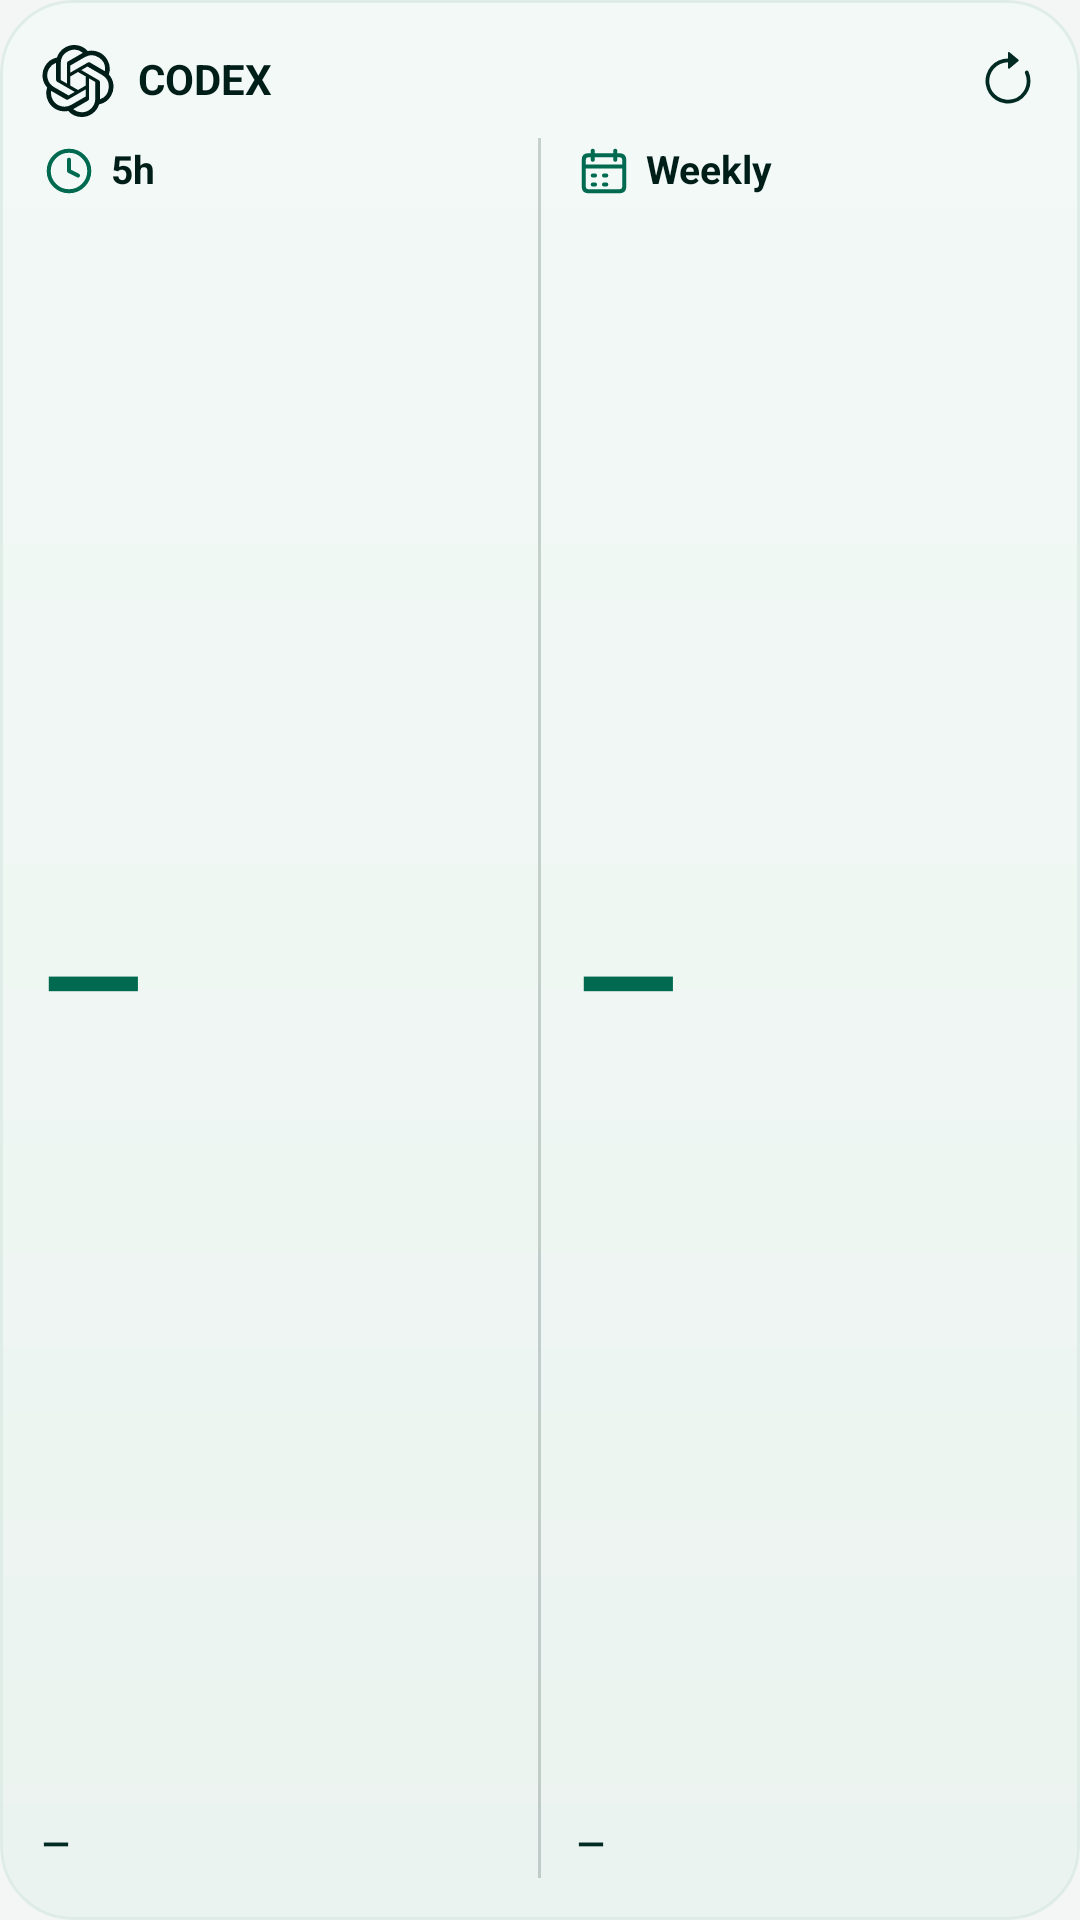

Icons on this 1080 × 1920 Android screen, each with its box as bbox(x1, y1, x2, y2):
widget glass calendar: bbox(581, 148, 627, 194)
widget glass clock: bbox(46, 148, 92, 194)
widget glass refresh: bbox(985, 52, 1031, 104)
